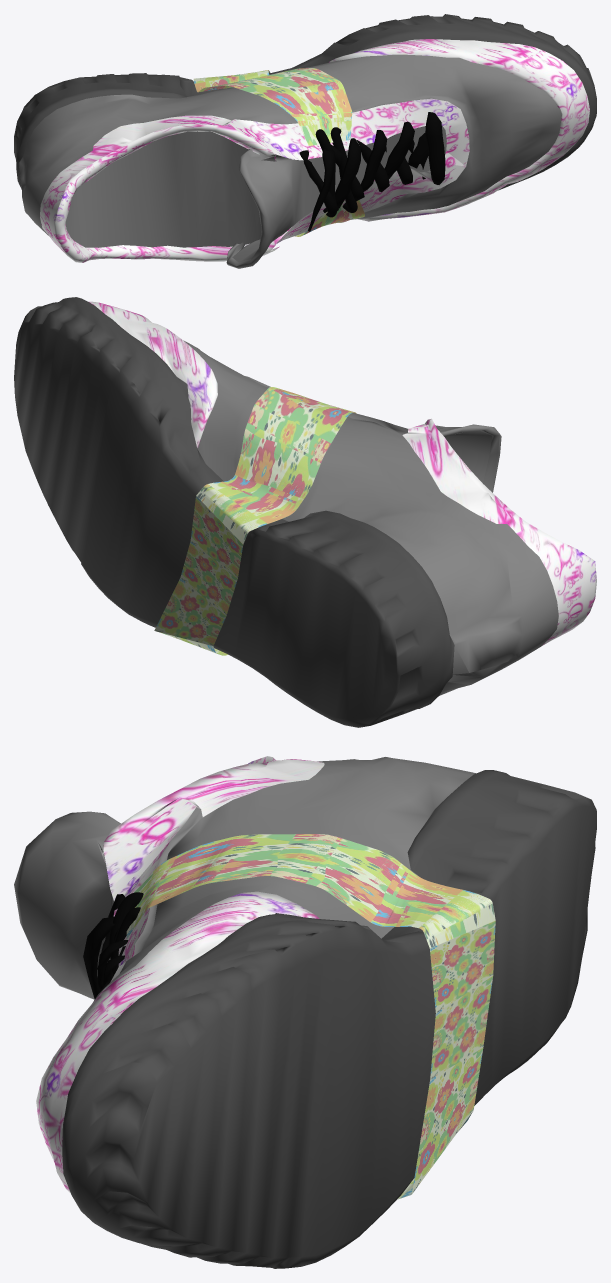
The model's file is yaya_shoe.obj.
The picture shows the model from 3 angles, top to bottom: view 1: azimuth 30°, elevation 25°; view 2: azimuth 150°, elevation 25°; view 3: azimuth 270°, elevation 25°; orthographic projection. The views are drawn at different scales.
Parts seen in each view (by area): view 1: TryOnShoes; view 2: TryOnShoes; view 3: TryOnShoes.
Boxes of the visible parts, <box> form: TryOnShoes: <box>14,14,596,268</box>; TryOnShoes: <box>14,297,596,727</box>; TryOnShoes: <box>14,756,596,1268</box>.
Size of the model in its own units: 312 by 115 by 180.
